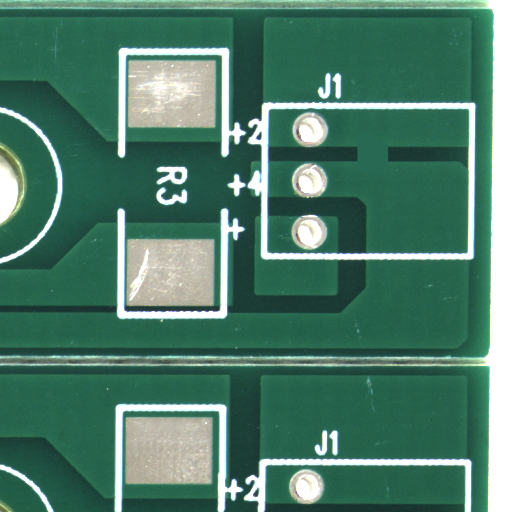Short: (371, 155, 423, 187)
